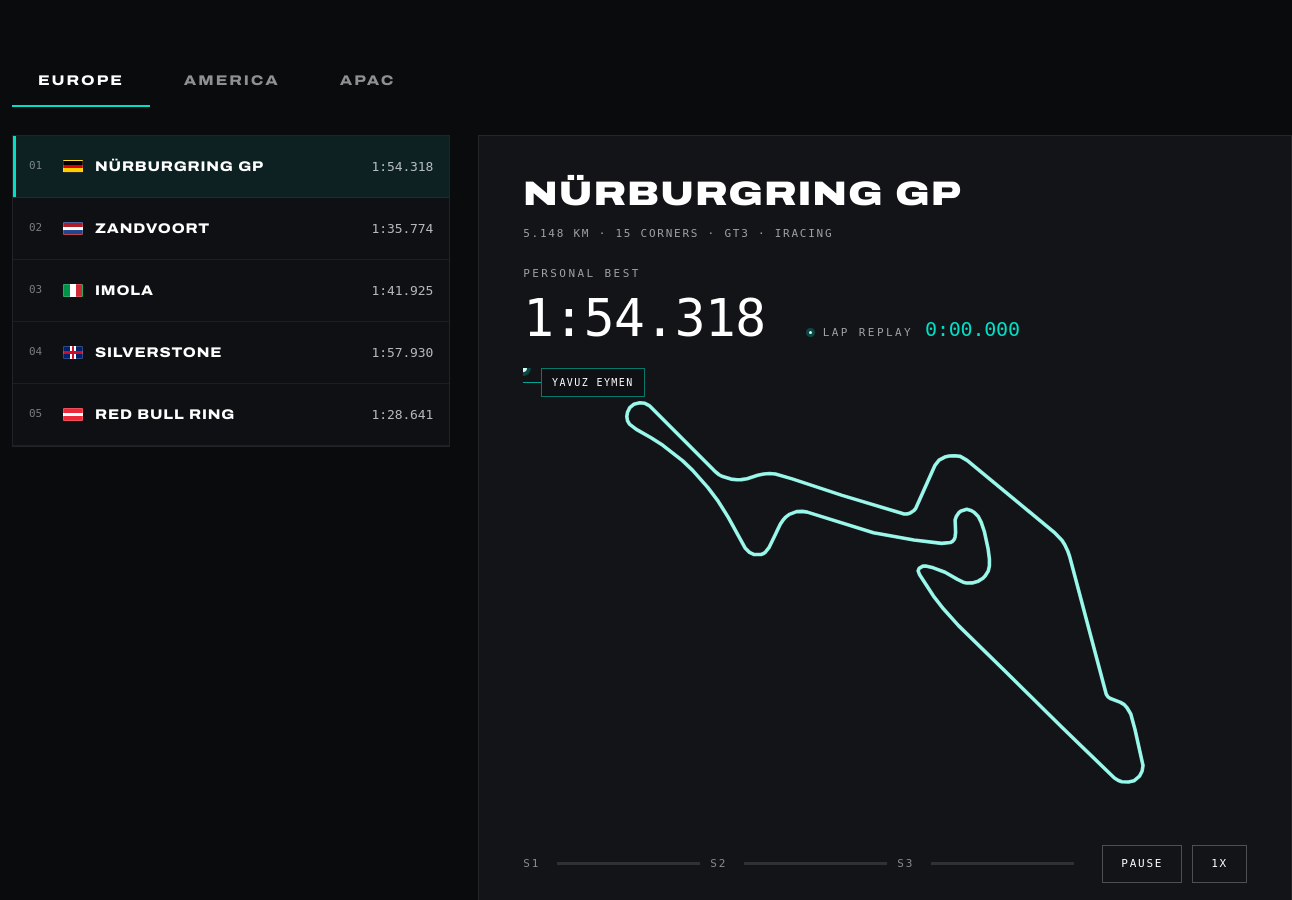
Test: TrackRecords › circuit list › selecting Imola shows it in the panel and marks it current
Step 1. Click the button "EUROPE" → click(81, 82), box top-left (12, 56), bottom-right (150, 107)
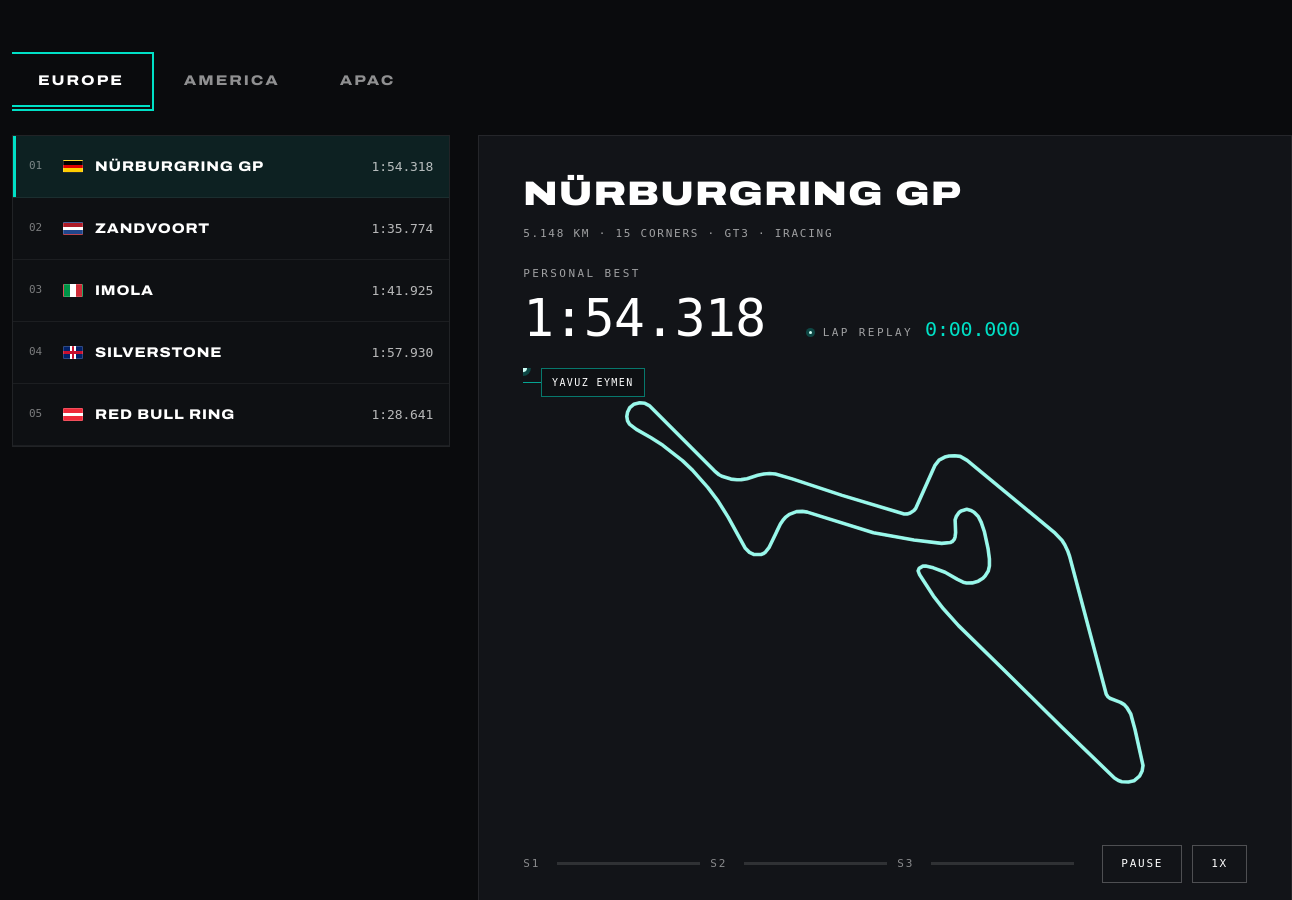
Step 2. Click the button "03 Imola 1:41.925" → click(124, 290), box top-left (13, 260), bottom-right (449, 322)
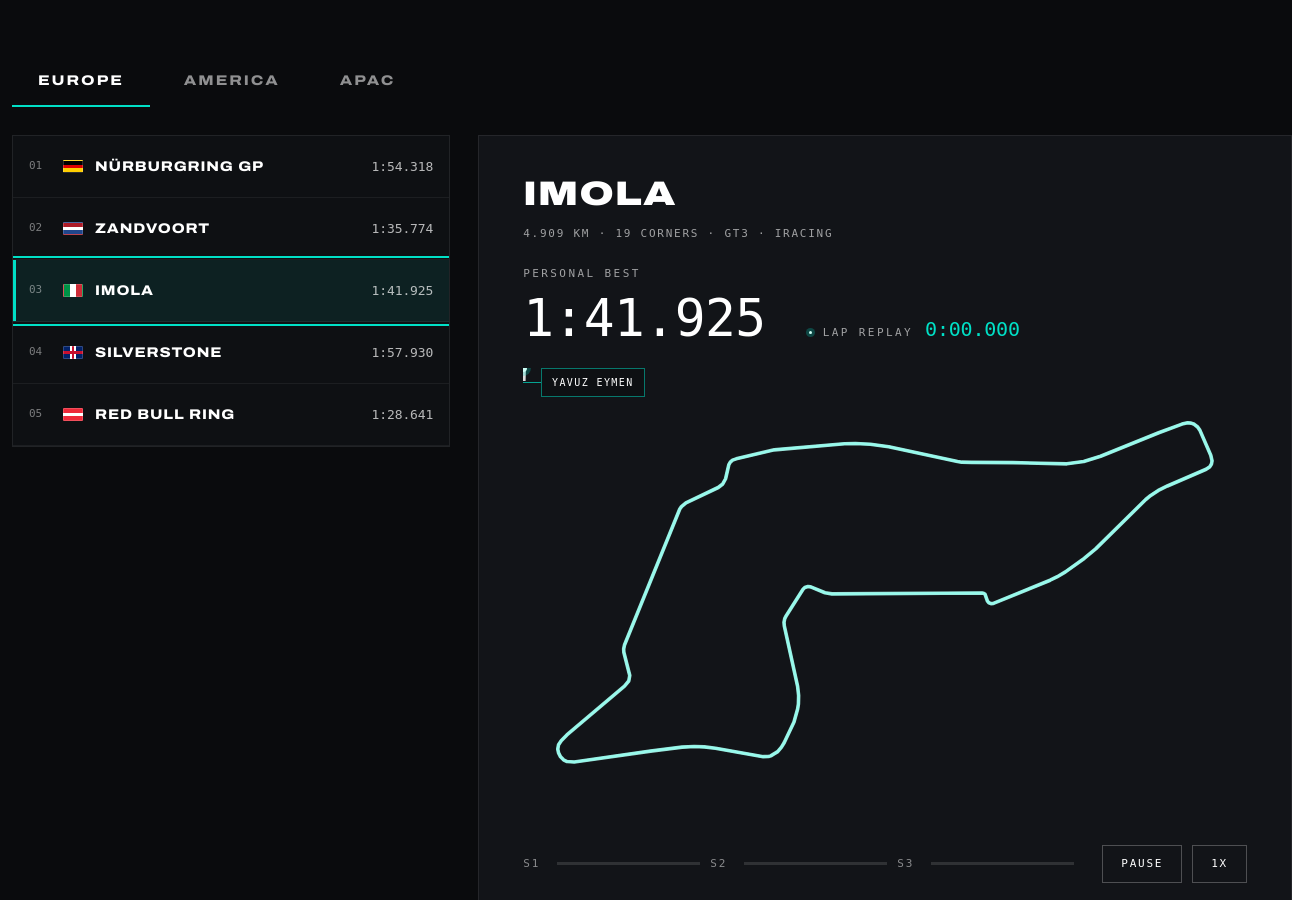
Expected: the heading "Imola" is shown, top-left (523, 175), bottom-right (677, 212)
